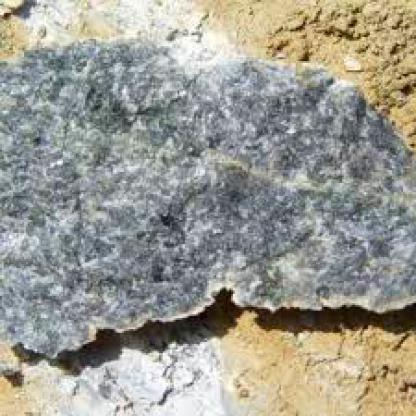Igneous_Diorite: (0, 34, 414, 364)
